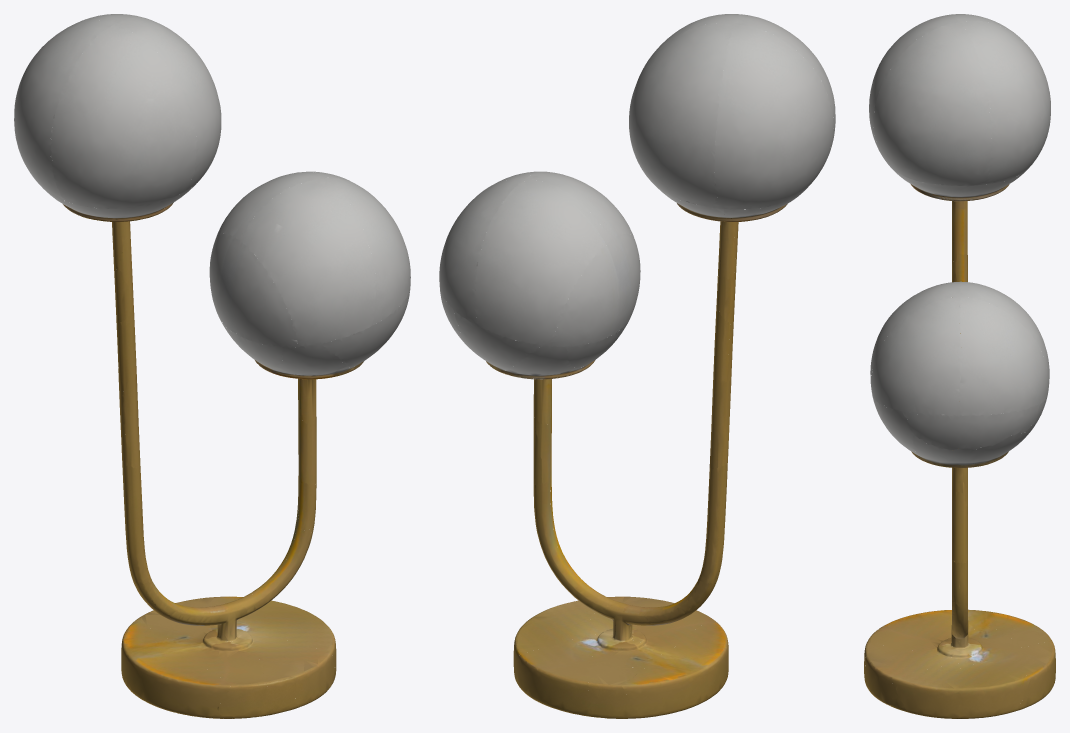
Rendered from Lamp1.glb.
The picture shows the model from 3 angles, left to right: view 1: azimuth 30°, elevation 25°; view 2: azimuth 150°, elevation 25°; view 3: azimuth 270°, elevation 25°; orthographic projection. The views are drawn at different scales.
Parts seen in each view (by area): view 1: tripo_node_14420192-6992-4da7-acf7-f2cf2a5095d1; view 2: tripo_node_14420192-6992-4da7-acf7-f2cf2a5095d1; view 3: tripo_node_14420192-6992-4da7-acf7-f2cf2a5095d1.
Boxes of the visible parts, x1=… form: tripo_node_14420192-6992-4da7-acf7-f2cf2a5095d1: x1=14, y1=14, x2=410, y2=718; tripo_node_14420192-6992-4da7-acf7-f2cf2a5095d1: x1=439, y1=14, x2=835, y2=718; tripo_node_14420192-6992-4da7-acf7-f2cf2a5095d1: x1=864, y1=14, x2=1055, y2=718.
Bounding box in the file's own units: 0.5659 × 1 × 0.286.
Materials: 1 (1 with a texture image).
